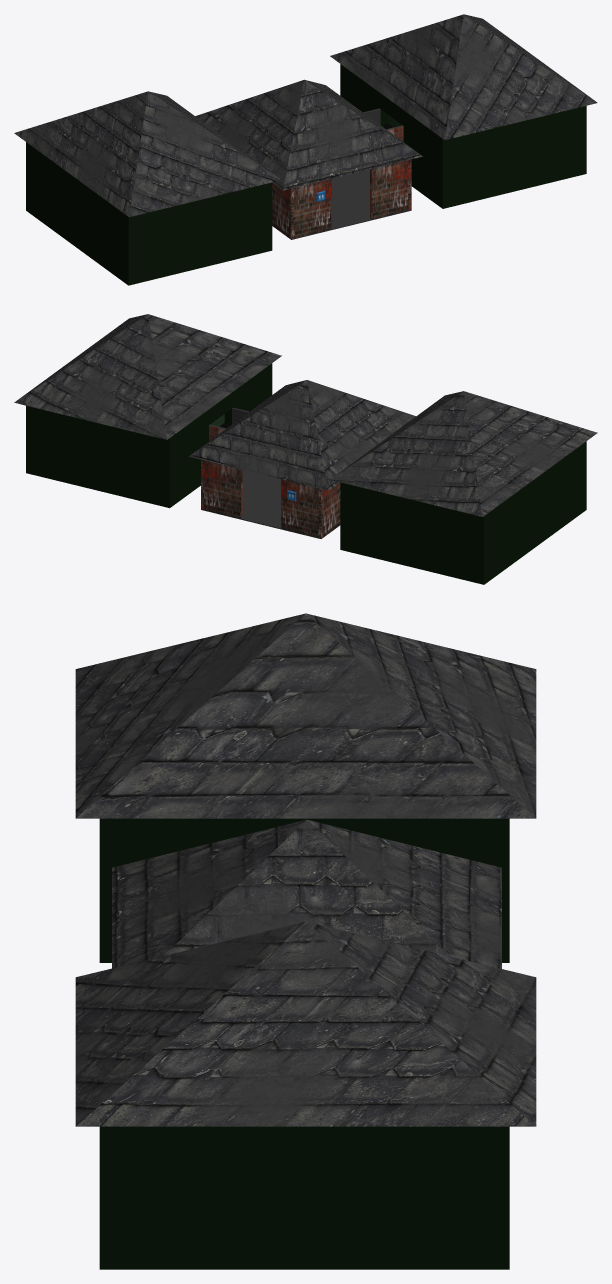
The model's file is bathroom.fbx.
3 renders of one model, top to bottom at view 1: azimuth 30°, elevation 25°; view 2: azimuth 150°, elevation 25°; view 3: azimuth 270°, elevation 25°, orthographic. The views are drawn at different scales.
Parts seen in each view (by area): view 1: Plane.002, Cube.001, Plane.001, Cube; view 2: Plane.002, Cube.001, Plane.001, Cube; view 3: Plane.002, Cube.001, Plane.001.
Part boxes in pixels (x1,y1,x2,y2): Plane.002: [14, 14, 597, 217]; Cube.001: [26, 64, 586, 285]; Plane.001: [195, 79, 422, 190]; Cube: [272, 108, 411, 239]; Plane.002: [14, 314, 597, 516]; Cube.001: [26, 363, 586, 584]; Plane.001: [188, 380, 415, 490]; Cube: [201, 407, 340, 538]; Plane.002: [75, 613, 536, 1126]; Cube.001: [99, 818, 509, 1269]; Plane.001: [112, 819, 501, 968].
Bounding box in the file's own units: 10442 × 2963 × 4440.
